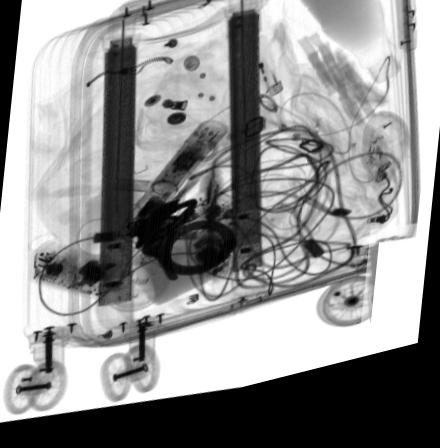Baton: (117, 130, 229, 249)
HandCuffs: (128, 206, 238, 290)
Lighter: (248, 46, 284, 112)
